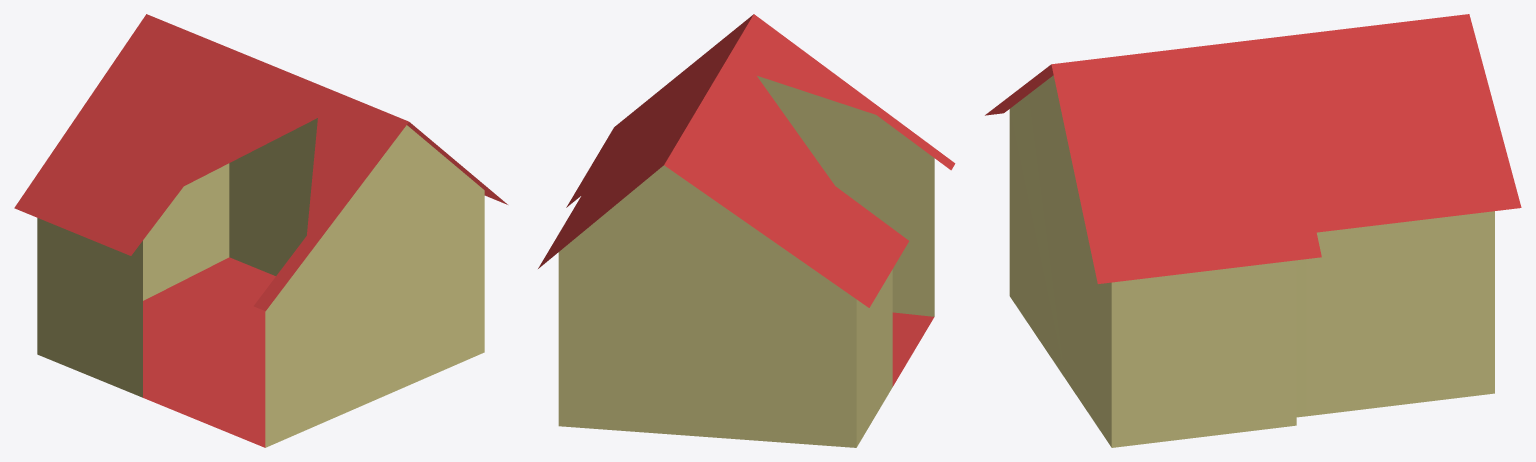
3 views of the same model, side by side, from view 1: azimuth 30°, elevation 25°; view 2: azimuth 150°, elevation 25°; view 3: azimuth 270°, elevation 25° (orthographic). The views are drawn at different scales.
Size of the model in its own units: 18.9 by 19.81 by 13.24.
